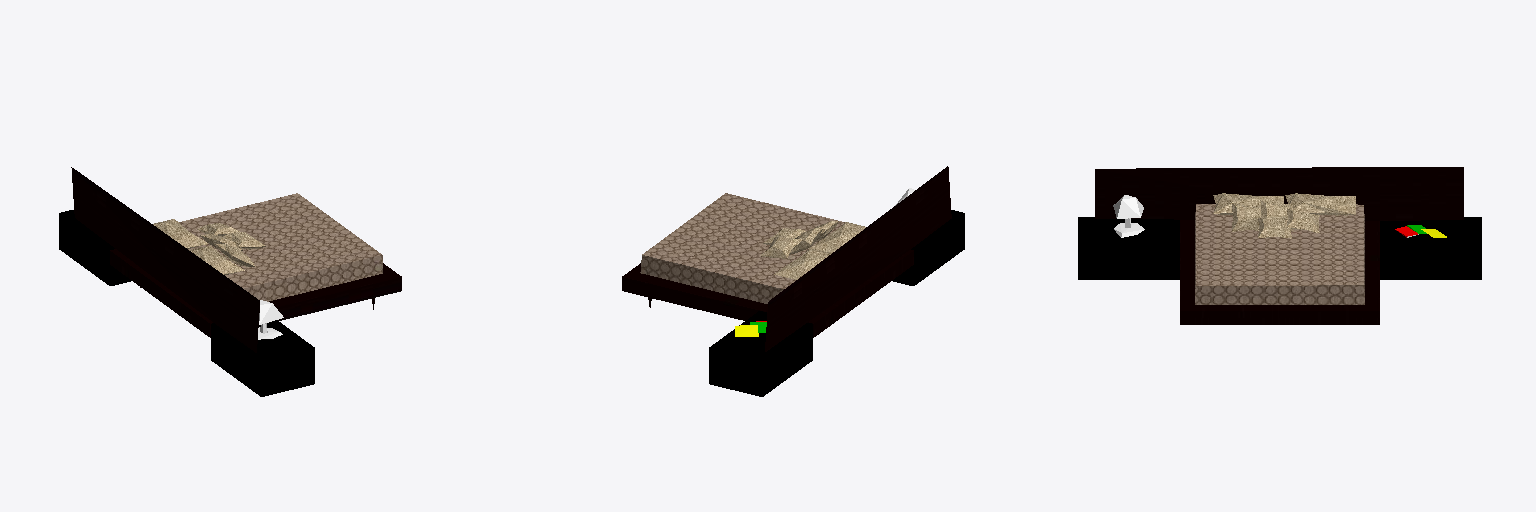
3 renders of one model, left to right at view 1: azimuth 30°, elevation 25°; view 2: azimuth 150°, elevation 25°; view 3: azimuth 270°, elevation 25°, orthographic.
Visible parts, largest first — view 1: bed; view 2: bed; view 3: bed.
Boxes of the visible parts, box(x1,y1,x2,y2) form: bed: box(59, 167, 401, 396); bed: box(622, 166, 964, 396); bed: box(1078, 167, 1481, 324).
Size of the model in its own units: 27.75 by 12.23 by 50.63.
Materials: 11 (5 with a texture image).